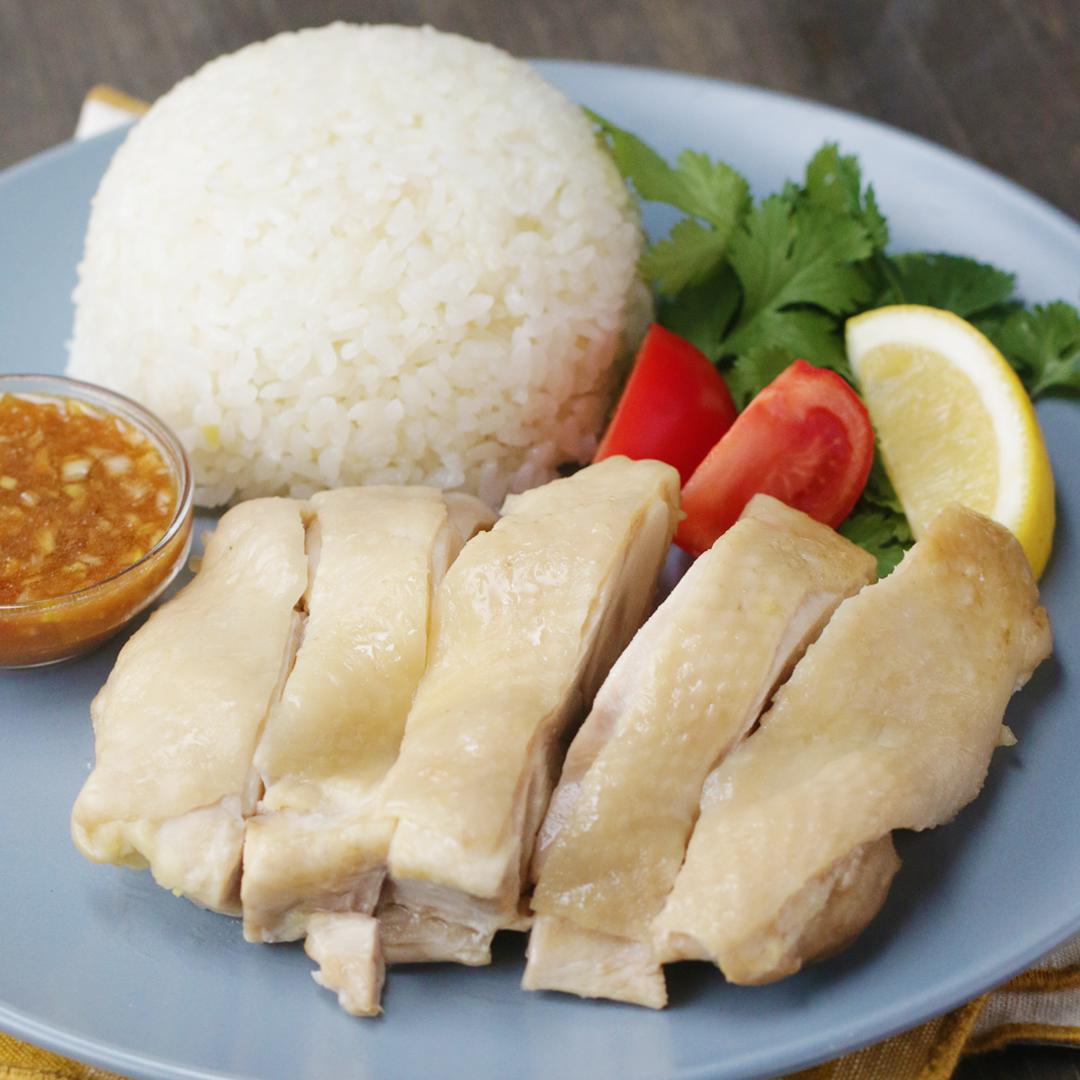Steamed Chicken Rice: (82, 37, 1053, 987)
